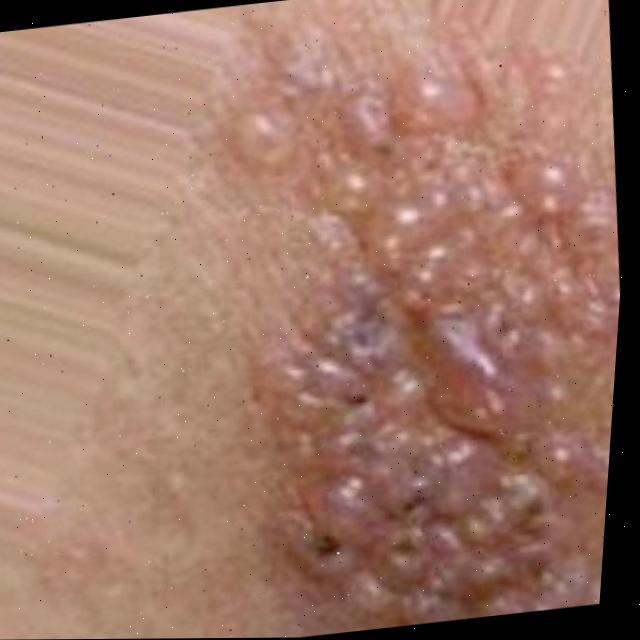Shingles: (208, 28, 638, 638)
